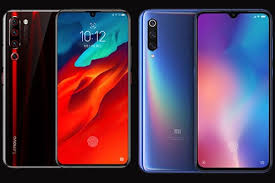lenovo: (1, 8, 129, 168), (50, 10, 131, 168), (189, 10, 270, 168)
